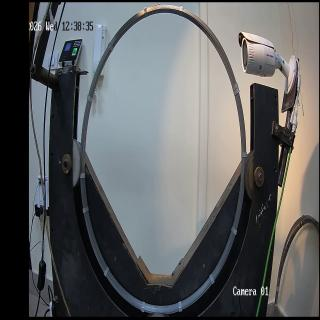clamp: (231, 225, 238, 236), (103, 266, 110, 277), (209, 273, 215, 285), (233, 87, 240, 97), (86, 94, 93, 104), (108, 41, 114, 52), (179, 5, 184, 18), (178, 300, 183, 313), (232, 82, 239, 91), (143, 7, 148, 19), (82, 206, 89, 214), (141, 301, 145, 313), (79, 173, 86, 179), (241, 152, 247, 158)
